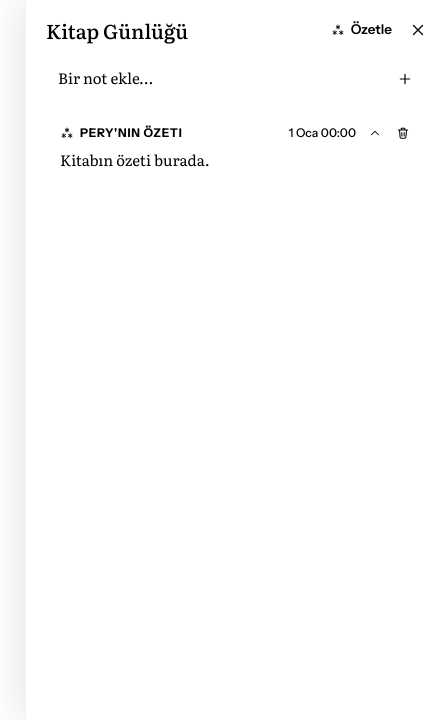
Journal summary › folds, remembers it, and is deleted after asking
Later steps or results of the test are not shown.
Click the button named "Gizle" at (375, 133), box [362,120,388,146]
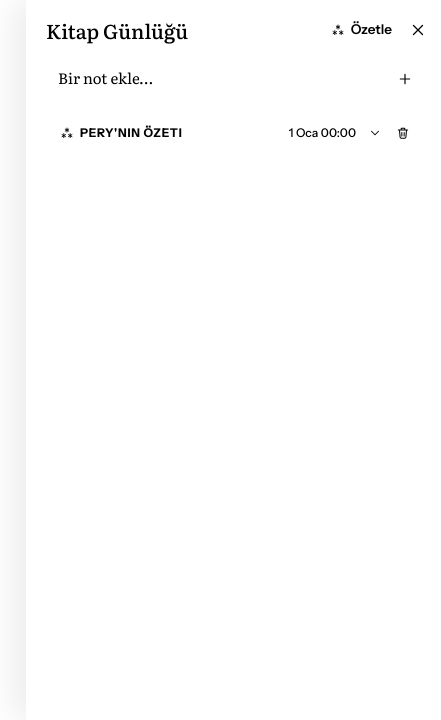
Result: the text "Kitabın özeti burada." is gone
Click the button named "Göster" at (375, 133), box [362,120,388,146]
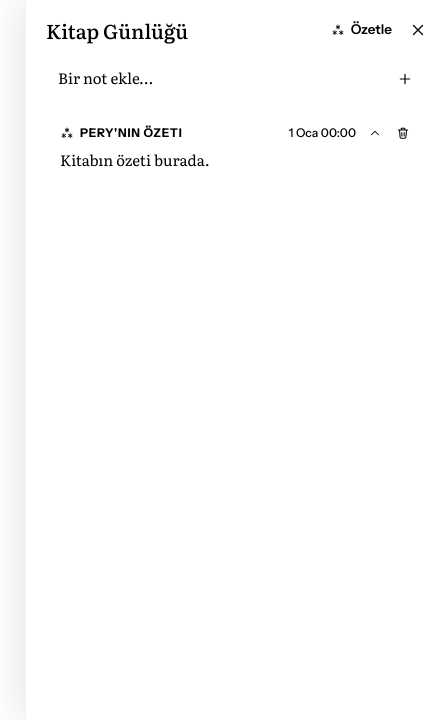
Result: the text "Kitabın özeti burada." is shown at [60,148,210,171]
Click the button named "Özeti sil" at (403, 133), box [390,120,416,146]
Result: the text "Kitabın özeti burada." is shown at [60,148,210,171]
Click the button named "Özeti sil" at (403, 133), box [390,120,416,146]
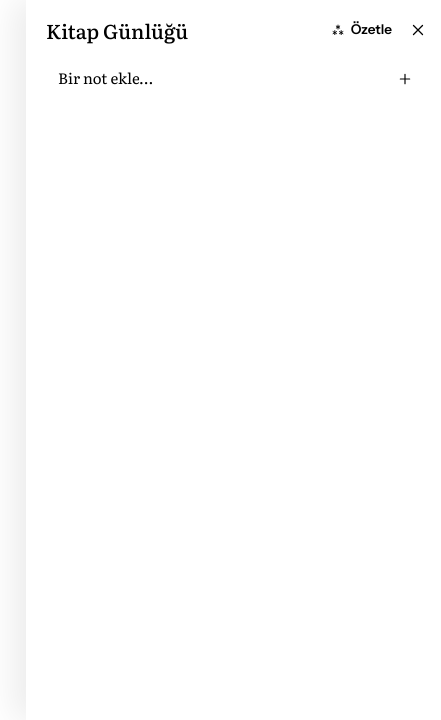
Result: the text "Pery'nin özeti" is gone
